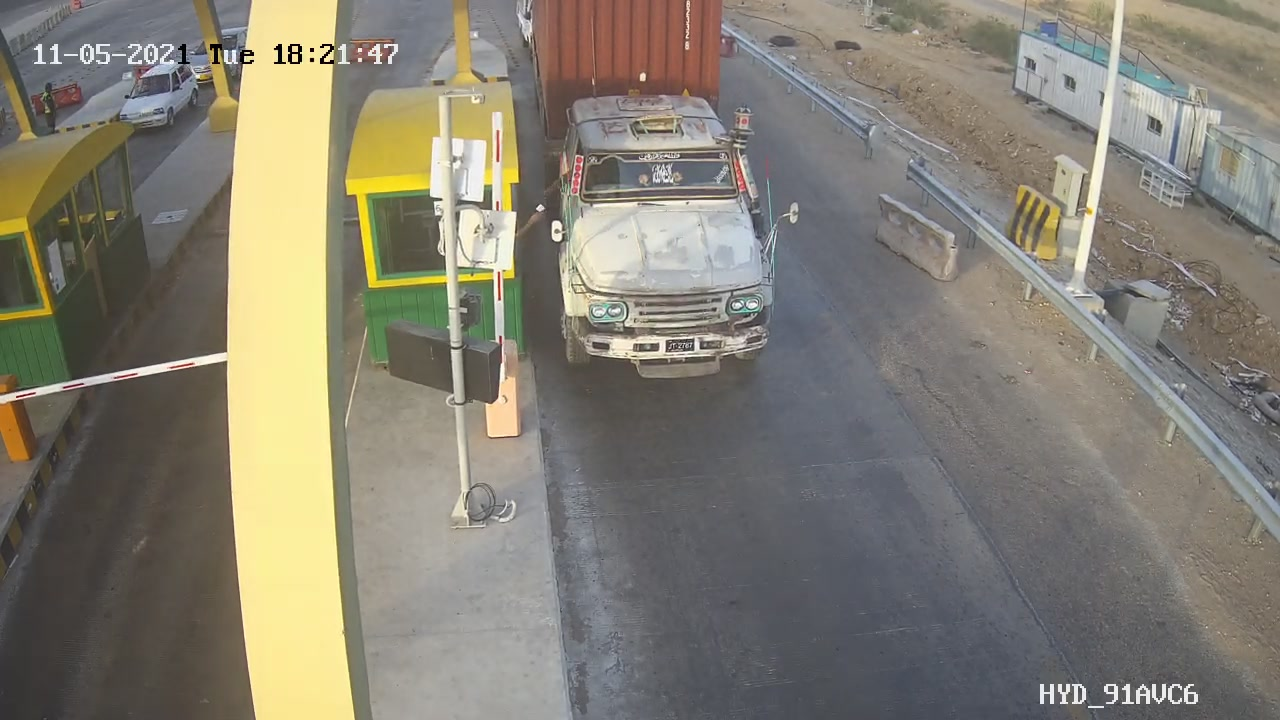F6: (515, 1, 797, 378)
